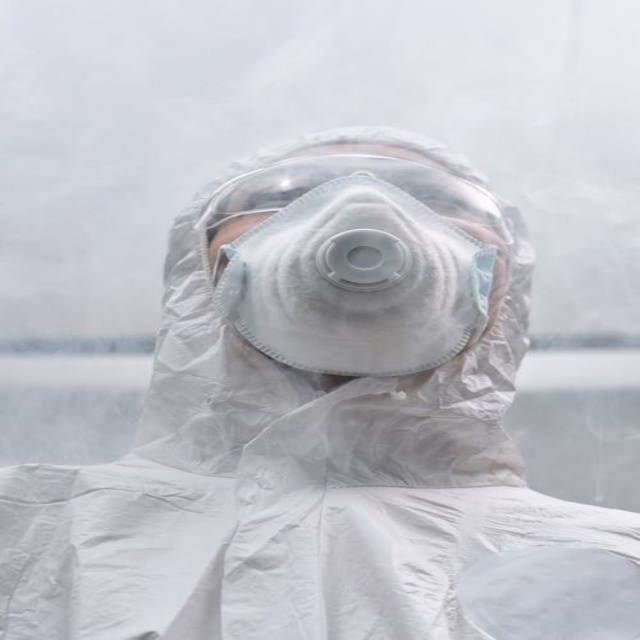Gafas: (197, 151, 509, 252)
Mascara: (214, 172, 501, 378)
